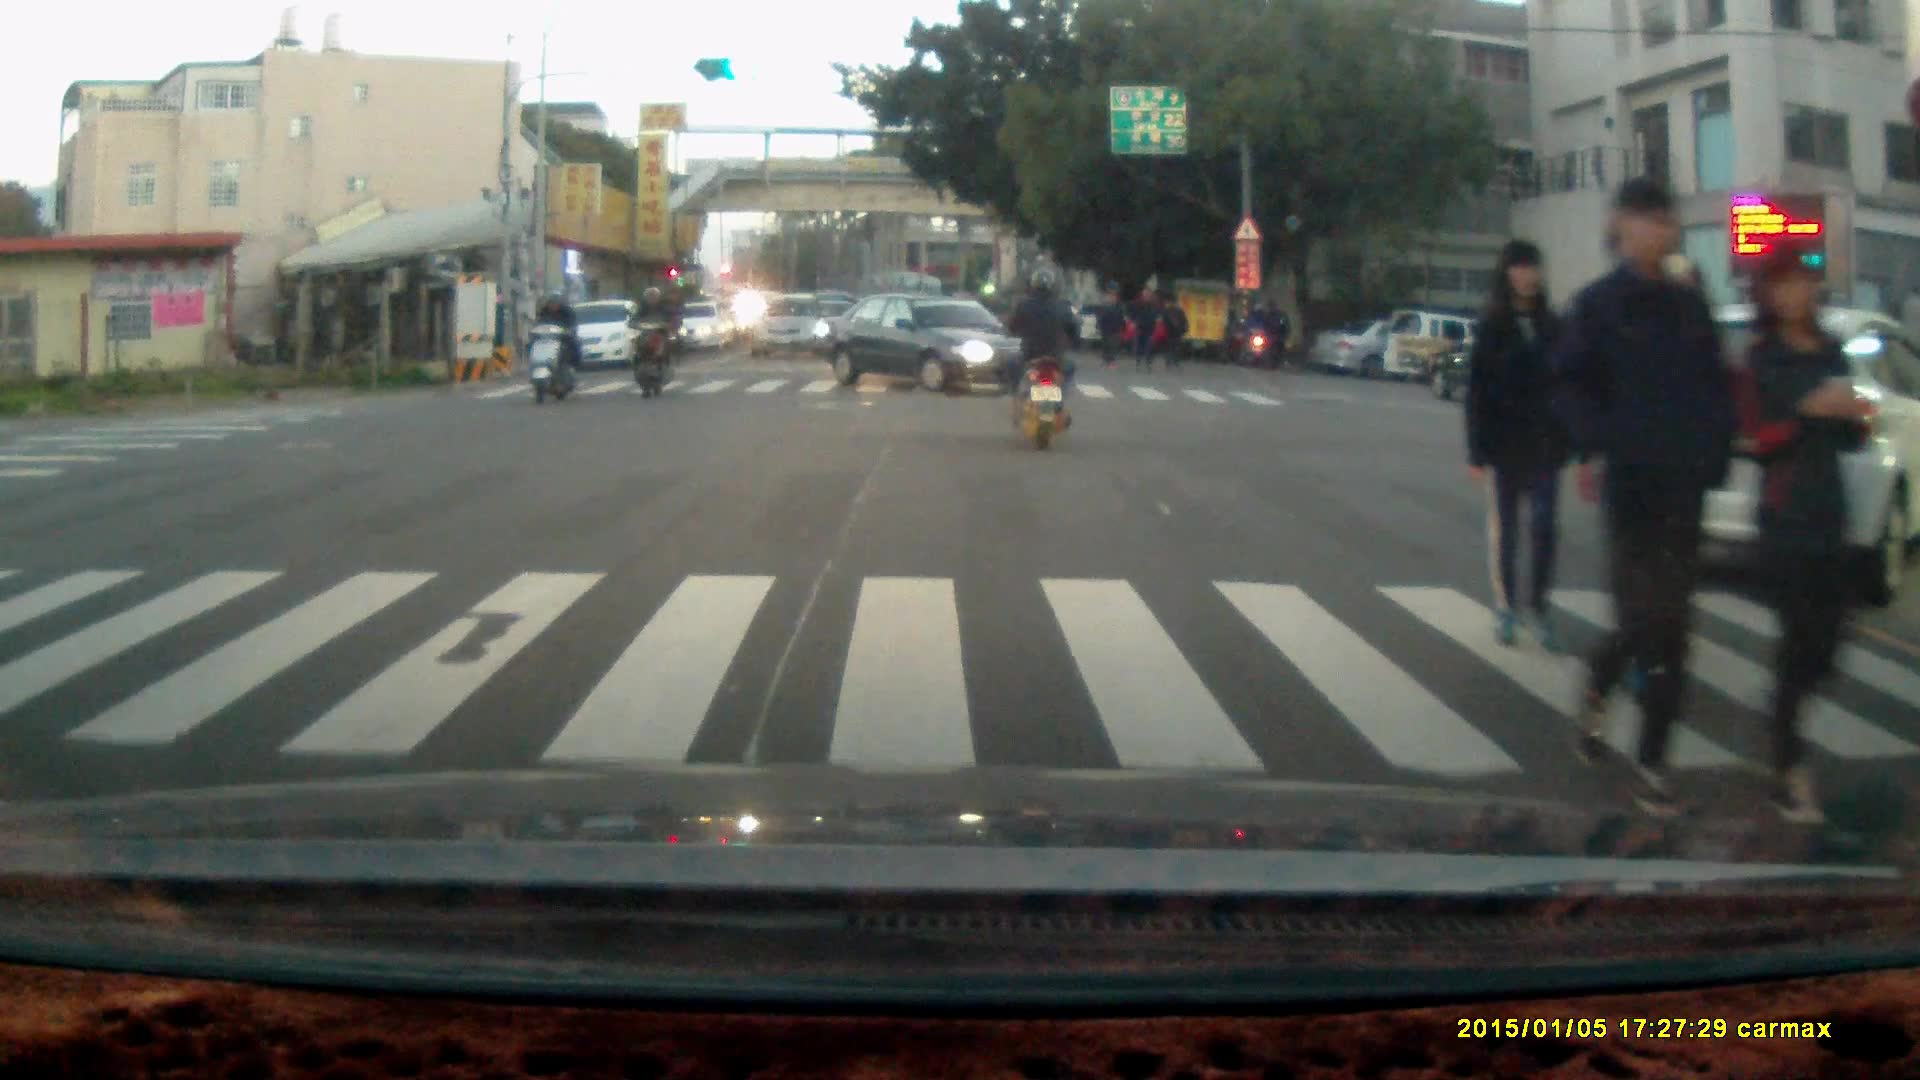pedestrian: (1551, 172, 1738, 819), (1732, 232, 1878, 832), (1460, 236, 1591, 663), (1127, 284, 1159, 378), (1154, 291, 1186, 377), (1093, 289, 1123, 371), (1257, 291, 1288, 368)
rider: (1004, 262, 1081, 451), (523, 281, 580, 405), (621, 280, 678, 399), (1233, 301, 1271, 366)
vehicle: (1611, 302, 1920, 607), (812, 286, 1058, 395), (1313, 311, 1484, 384), (549, 298, 656, 371), (748, 294, 831, 363)
